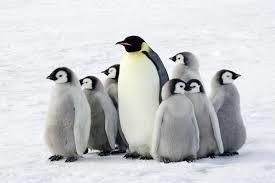emporer: (107, 26, 185, 165)
